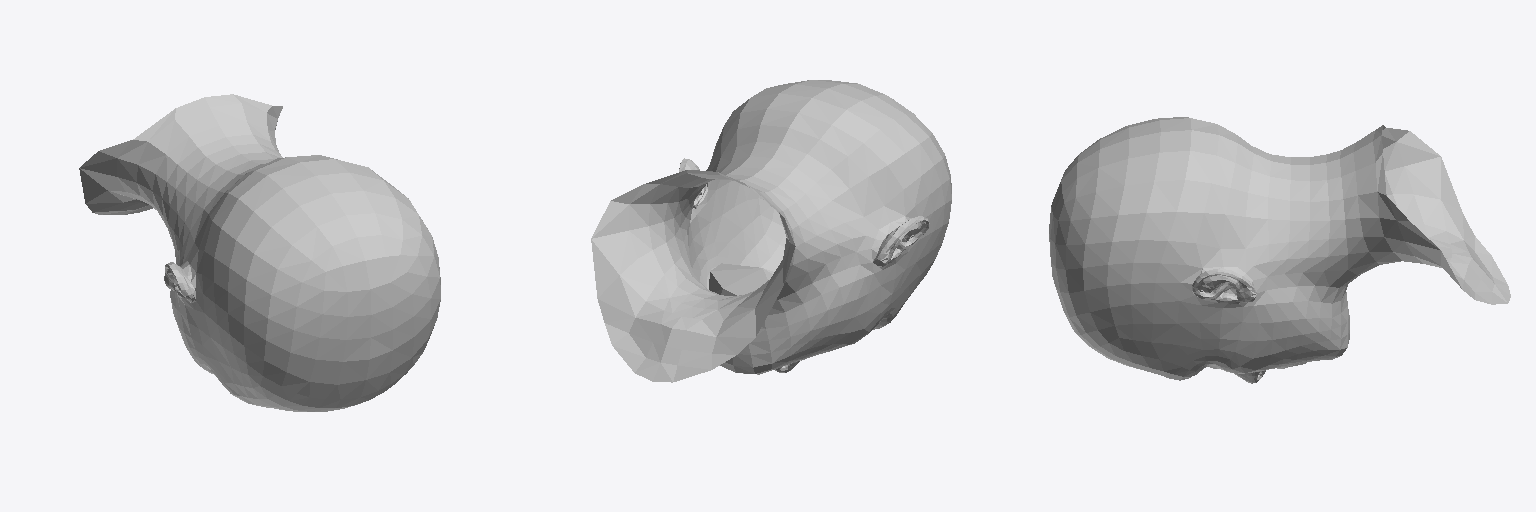
The model's file is nicole.obj.
The picture shows the model from 3 angles: view 1: azimuth 30°, elevation 25°; view 2: azimuth 150°, elevation 25°; view 3: azimuth 270°, elevation 25°; orthographic projection.
Size of the model in its own units: 118 by 117 by 195.